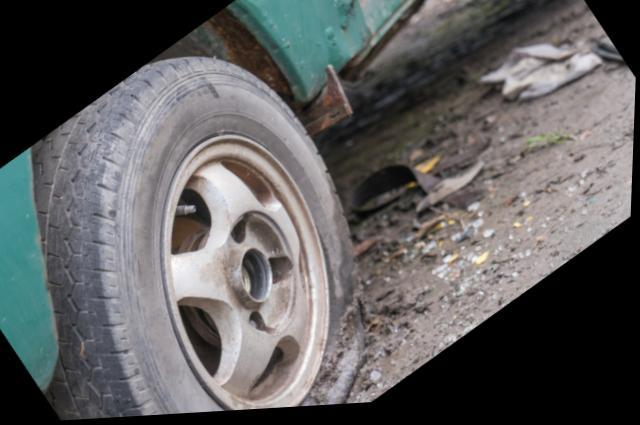tire flat: (33, 57, 370, 421)
